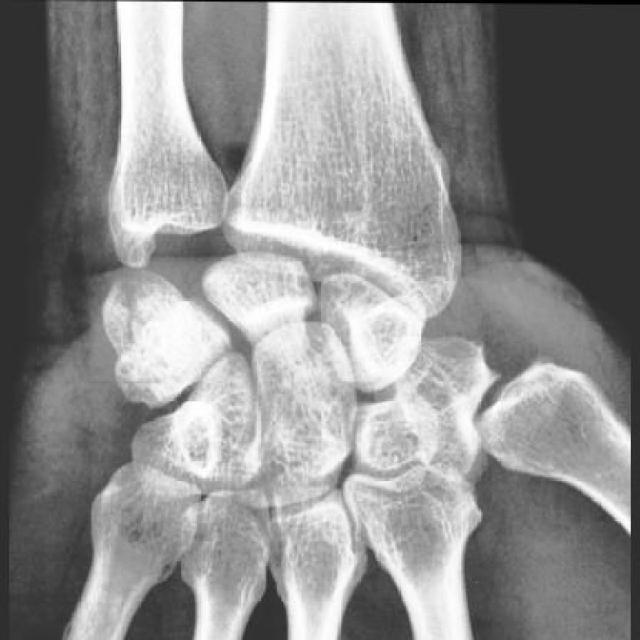bone: (95, 277, 169, 382)
